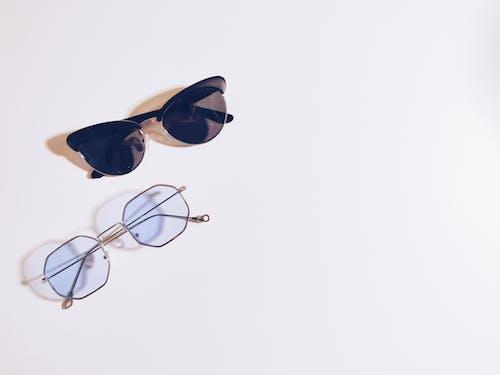eyeglasses: (30, 177, 218, 316), (55, 72, 241, 178)
